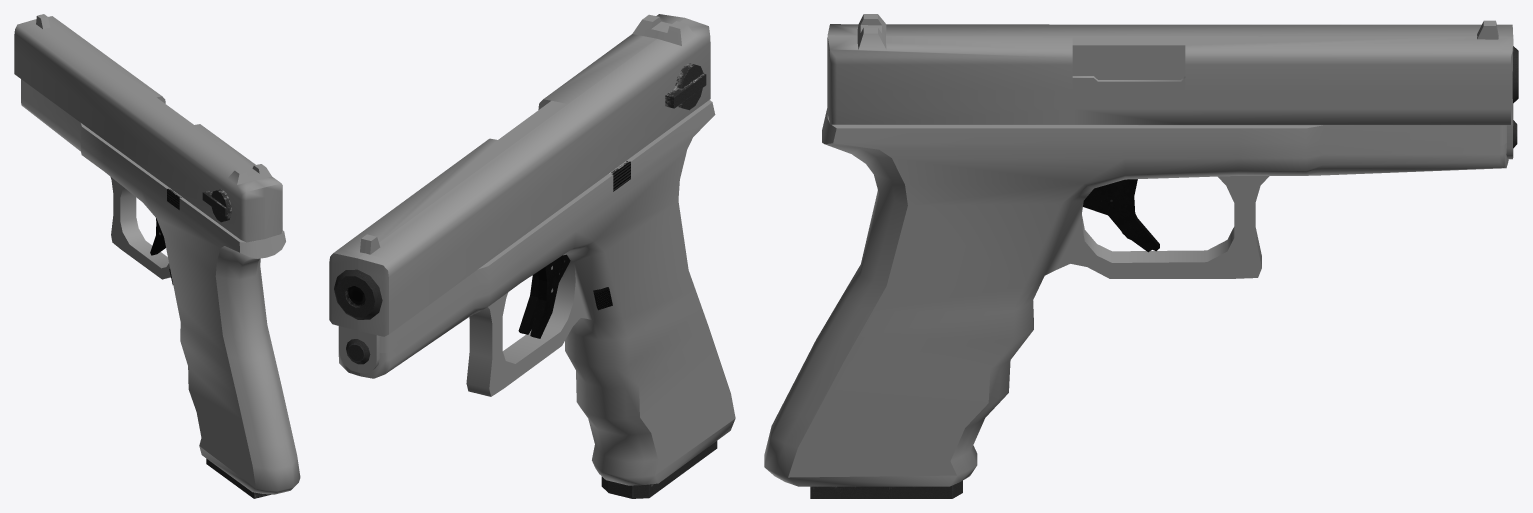
File: Glock18.FBX
3 views of the same model, side by side, from view 1: azimuth 30°, elevation 25°; view 2: azimuth 150°, elevation 25°; view 3: azimuth 270°, elevation 25° (orthographic). The views are drawn at different scales.
Parts seen in each view (by area): view 1: Handle, Shutter, Mode, Magazine; view 2: Handle, Shutter, Muzzle, Trigger, Mode, Magazine, TriggerBurst, Pointer; view 3: Handle, Shutter, TriggerBurst, Magazine.
Part boxes in pixels (x1,y1,x2,y2): Handle: (21, 79, 300, 494); Shutter: (14, 14, 282, 242); Mode: (202, 189, 231, 222); Magazine: (206, 458, 271, 498); Handle: (338, 100, 735, 485); Shutter: (329, 14, 710, 373); Muzzle: (334, 269, 382, 319); Trigger: (530, 254, 570, 338); Mode: (665, 63, 706, 110); Magazine: (601, 441, 717, 498); TriggerBurst: (518, 272, 538, 334); Pointer: (346, 339, 370, 364); Handle: (764, 108, 1508, 486); Shutter: (827, 14, 1513, 159); TriggerBurst: (1083, 179, 1159, 251); Magazine: (810, 480, 962, 498).
Bounding box in the file's own units: 0.000134 × 0.00117 × 0.000791.
